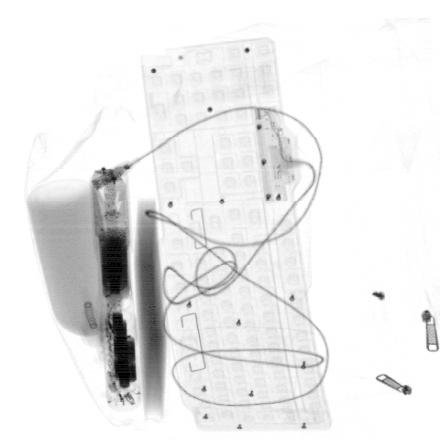Baton: (90, 163, 144, 415)
